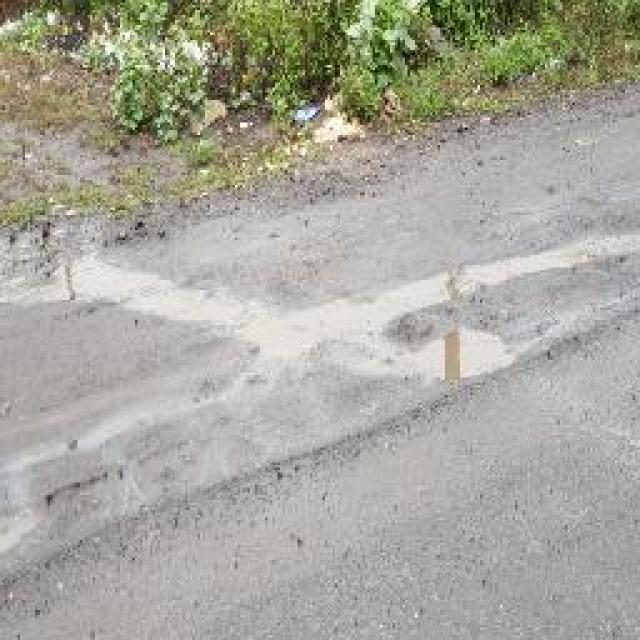puddle: (396, 329, 518, 385)
